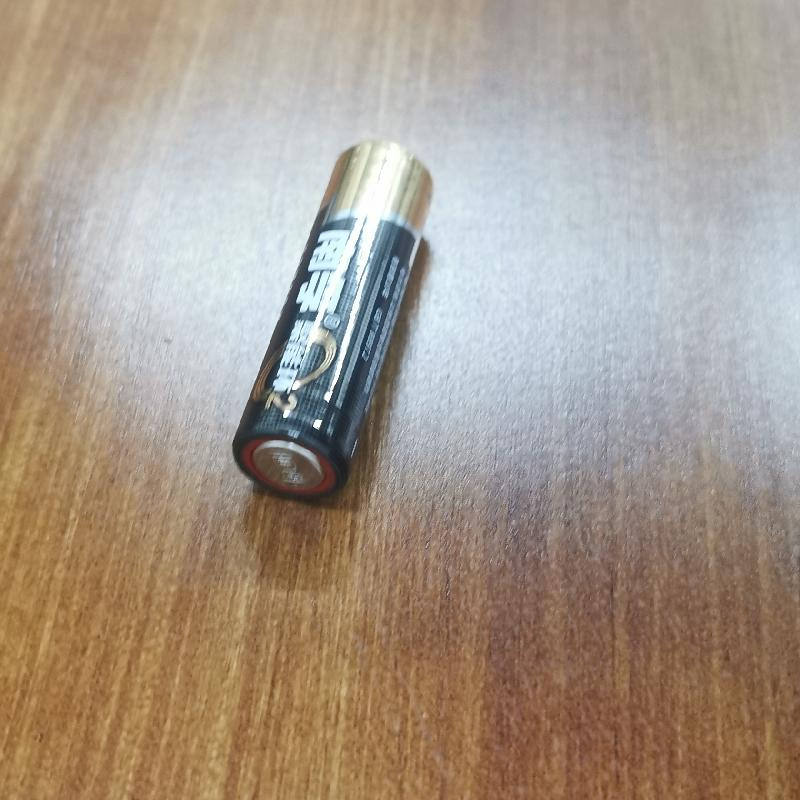battery: (224, 139, 447, 503)
